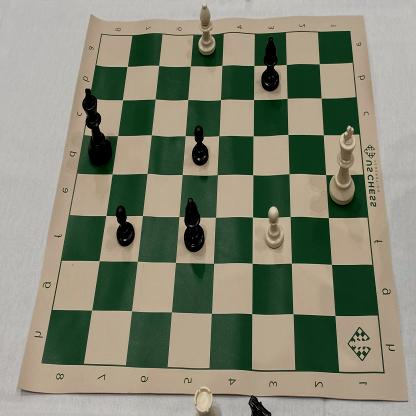bishop: (178, 195, 206, 254)
black-bishop: (257, 32, 281, 96)
black-king: (78, 79, 114, 169)
black-pawn: (114, 200, 136, 251)
white-bishop: (194, 0, 218, 61), (191, 120, 210, 167)
white-king: (328, 119, 362, 210)
white-pawn: (261, 200, 287, 252)
